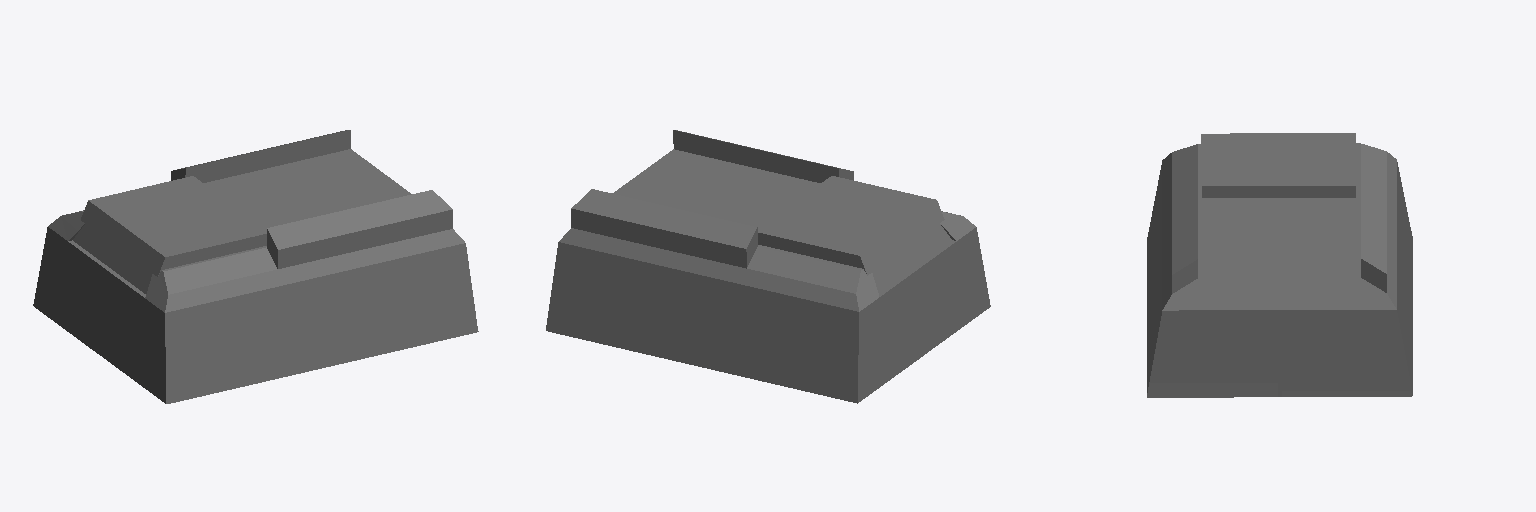
Rendered from Robot.obj.
3 views of the same model, side by side, from view 1: azimuth 30°, elevation 25°; view 2: azimuth 150°, elevation 25°; view 3: azimuth 270°, elevation 25° (orthographic).
Bounding box in the file's own units: 1.29 × 0.5182 × 0.9551.